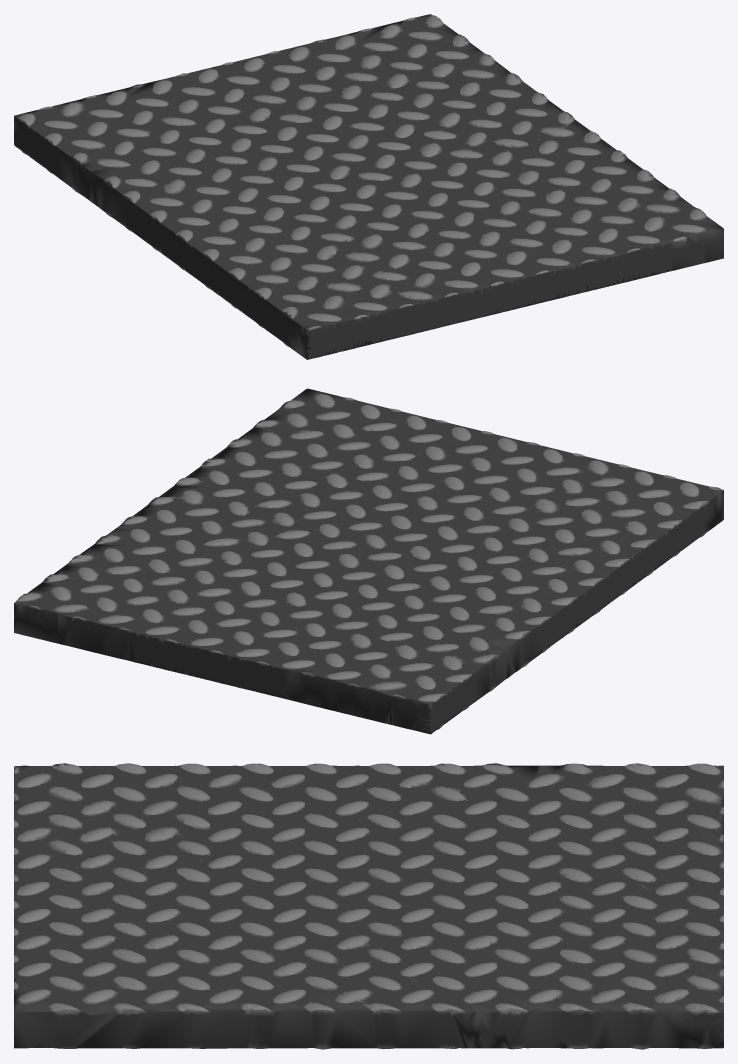
Rendered from carbon metal floor.fbx.
The picture shows the model from 3 angles, top to bottom: view 1: azimuth 30°, elevation 25°; view 2: azimuth 150°, elevation 25°; view 3: azimuth 270°, elevation 25°; orthographic projection. The views are drawn at different scales.
Parts seen in each view (by area): view 1: Layer_1; view 2: Layer_1; view 3: Layer_1.
Part boxes in pixels (x1,y1,x2,y2): Layer_1: (14,14,723,359); Layer_1: (14,388,723,734); Layer_1: (14,763,723,1049).
Size of the model in its own units: 6.4 by 7.8 by 0.5245.
